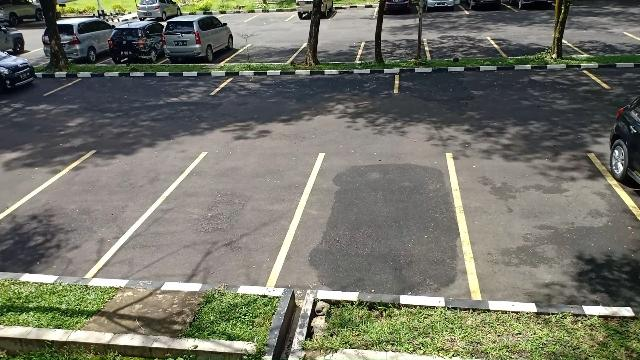empty: (453, 151, 625, 299), (293, 151, 462, 295), (145, 149, 289, 285), (8, 150, 142, 276), (394, 64, 598, 98), (214, 74, 398, 102), (49, 72, 231, 98), (357, 34, 429, 62), (493, 31, 572, 56), (424, 34, 498, 60), (232, 40, 302, 66), (298, 37, 364, 63), (572, 31, 640, 55), (244, 4, 294, 24), (331, 0, 377, 20)
occupied: (162, 22, 234, 66), (107, 26, 163, 66)
